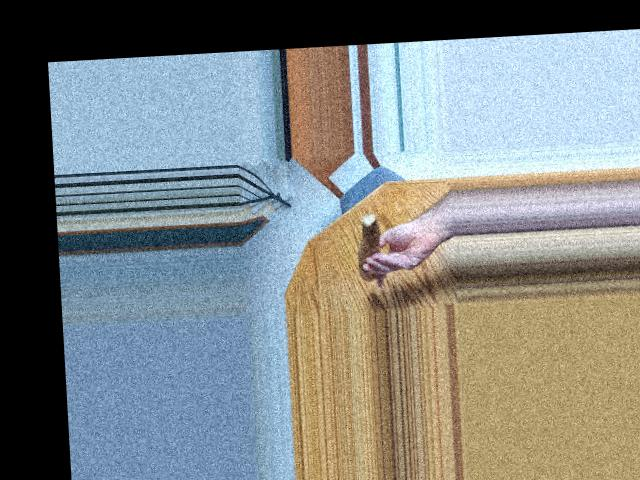sweet_potato: (352, 218, 387, 276)
